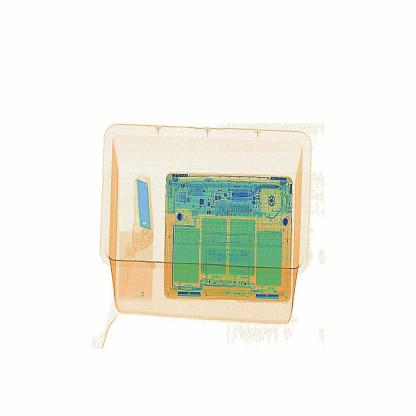pliers: (127, 165, 161, 252)
